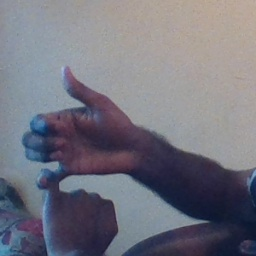S: (16, 61, 140, 245)
